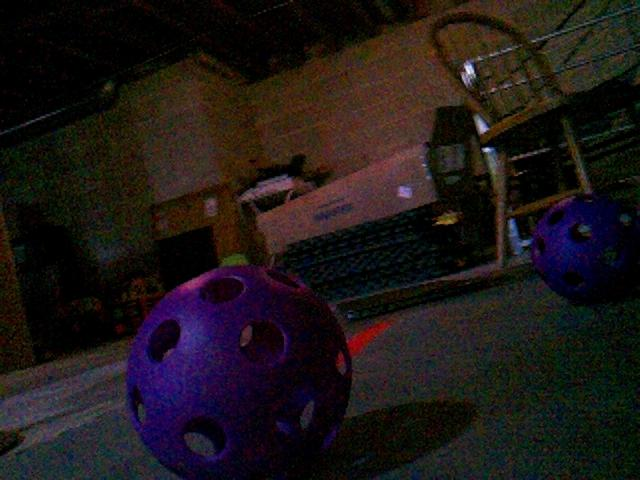Purple: (125, 263, 356, 480), (528, 194, 639, 304)
